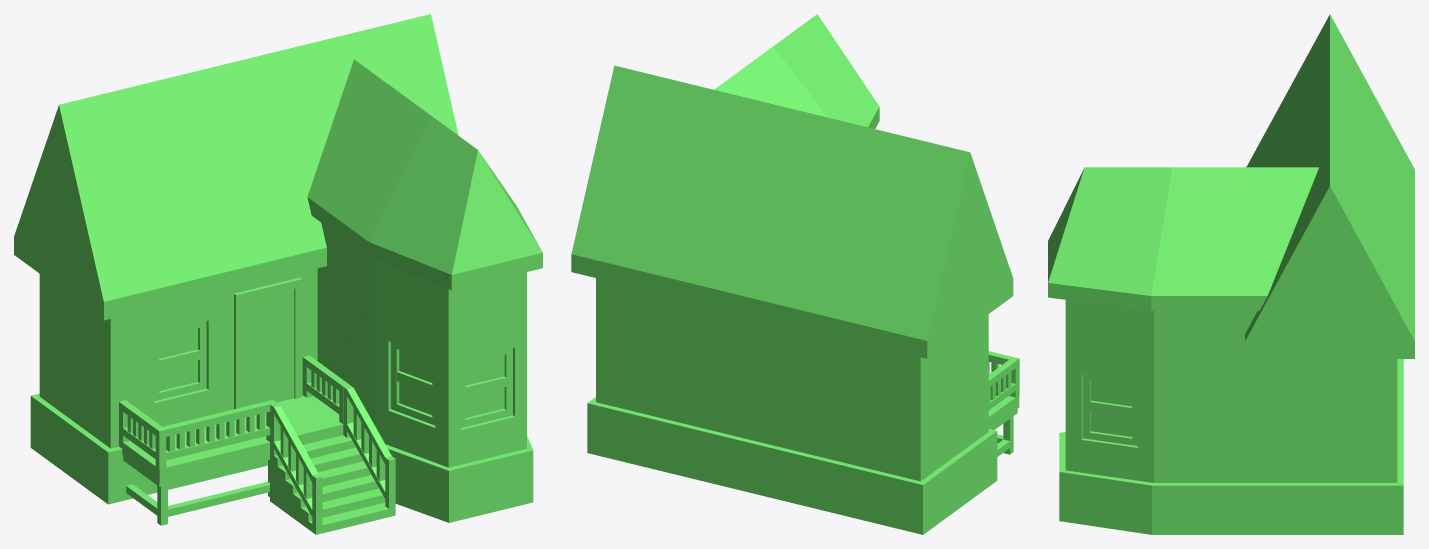
Rendered from ((Placeholder)) House - Copy.fbx.
The picture shows the model from 3 angles, left to right: view 1: azimuth 30°, elevation 25°; view 2: azimuth 150°, elevation 25°; view 3: azimuth 270°, elevation 25°; orthographic projection. The views are drawn at different scales.
Parts seen in each view (by area): view 1: Plane.002; view 2: Plane.002; view 3: Plane.002.
Boxes of the visible parts, bbox=[...] form: Plane.002: bbox=[14, 14, 542, 534]; Plane.002: bbox=[571, 14, 1019, 534]; Plane.002: bbox=[1048, 14, 1414, 534].
Bounding box in the file's own units: 561 × 539 × 506.
